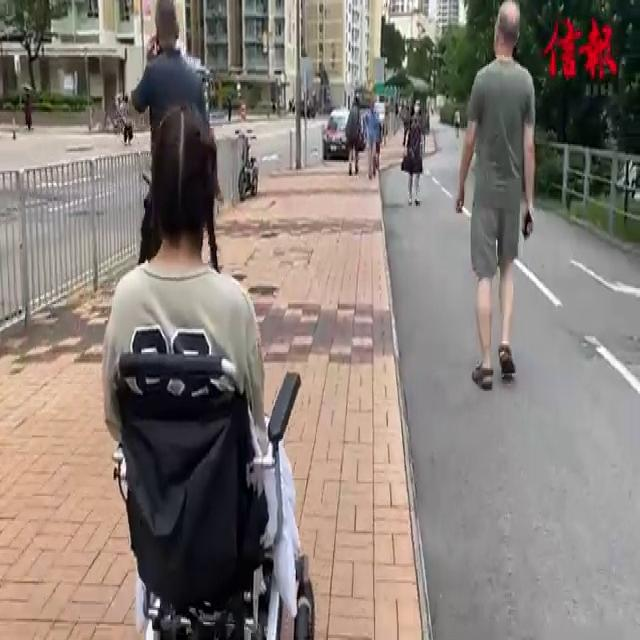wheelchairs: (95, 320, 327, 640)
